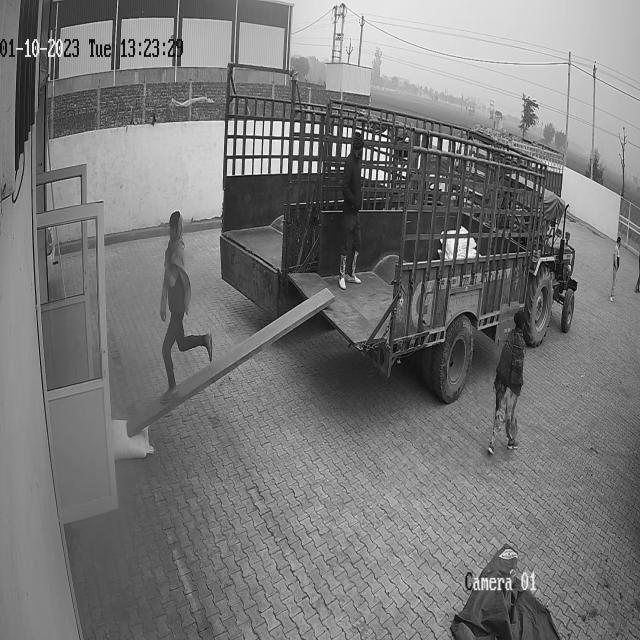sack: (112, 420, 153, 459)
